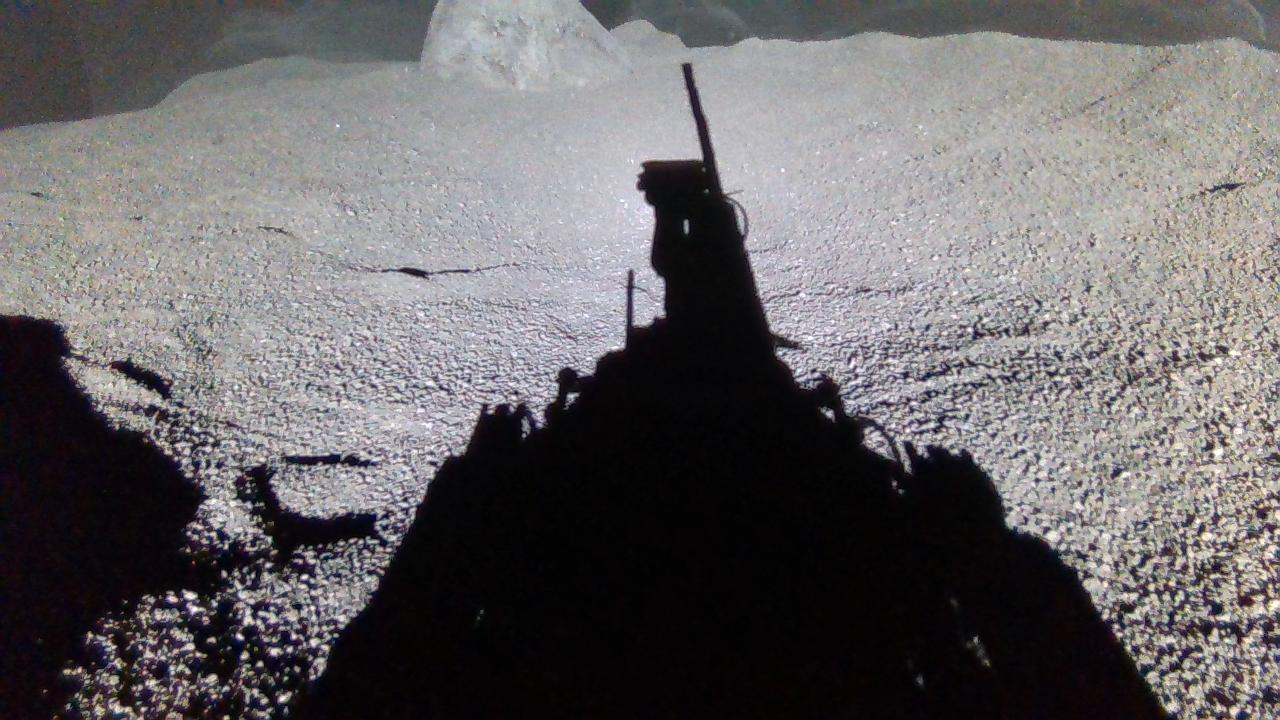rock: (421, 0, 631, 88)
